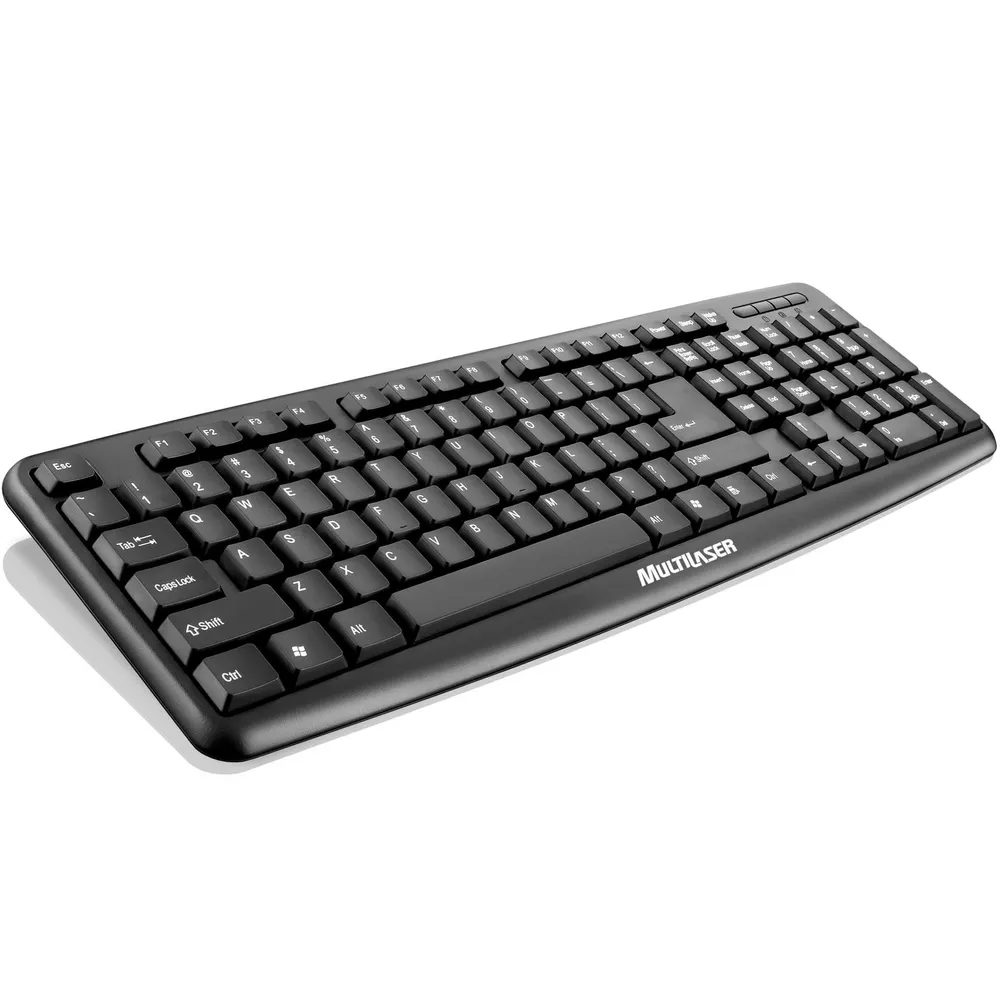keyboard: (1, 277, 1000, 764)
